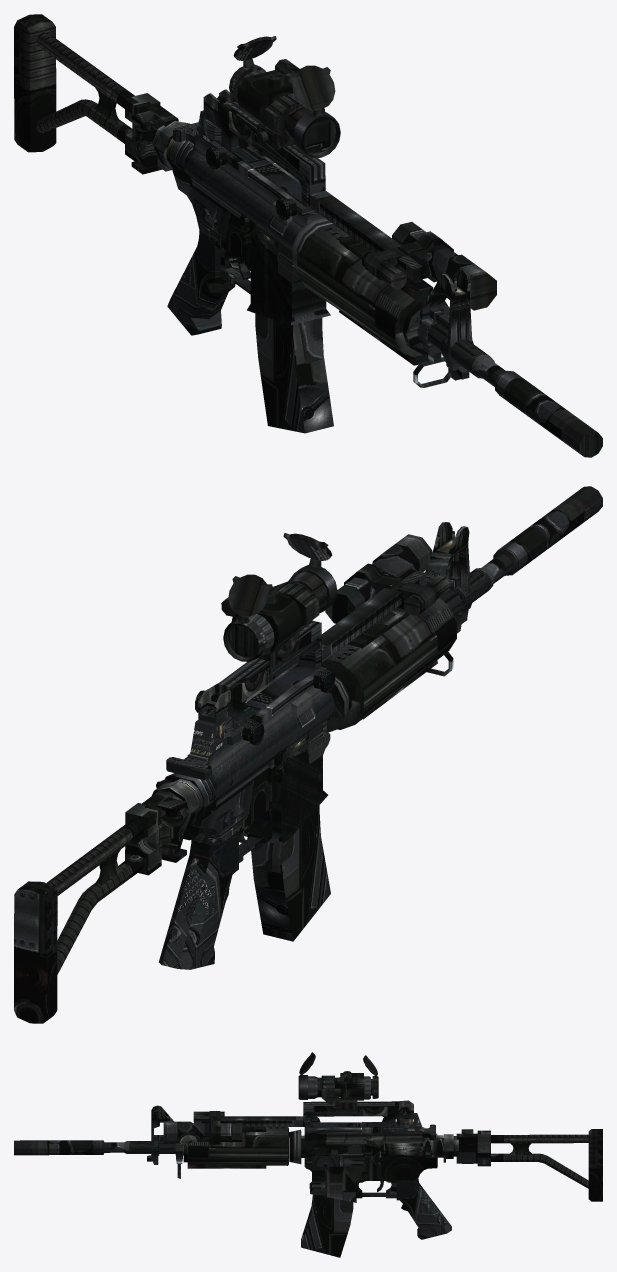
Rendered from m4a1_custom.glb.
The picture shows the model from 3 angles, top to bottom: view 1: azimuth 30°, elevation 25°; view 2: azimuth 150°, elevation 25°; view 3: azimuth 270°, elevation 25°; orthographic projection. The views are drawn at different scales.
Parts seen in each view (by area): view 1: CF_M4A1_C; view 2: CF_M4A1_C; view 3: CF_M4A1_C.
Part boxes in pixels (x1,y1,x2,y2): CF_M4A1_C: [14, 14, 602, 457]; CF_M4A1_C: [14, 486, 602, 1023]; CF_M4A1_C: [14, 1052, 602, 1257].
Size of the model in its own units: 3.46 by 14.89 by 39.89.
Materials: 2 (2 with a texture image).
